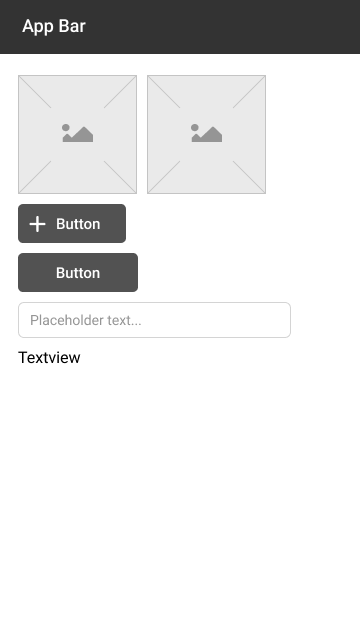button: (16, 251, 142, 294)
buttonImage: (18, 202, 128, 245)
editText: (16, 298, 293, 341)
imageView: (145, 72, 268, 198), (16, 74, 139, 197)
textView: (16, 348, 85, 367)
toolbar: (1, 1, 360, 54)
